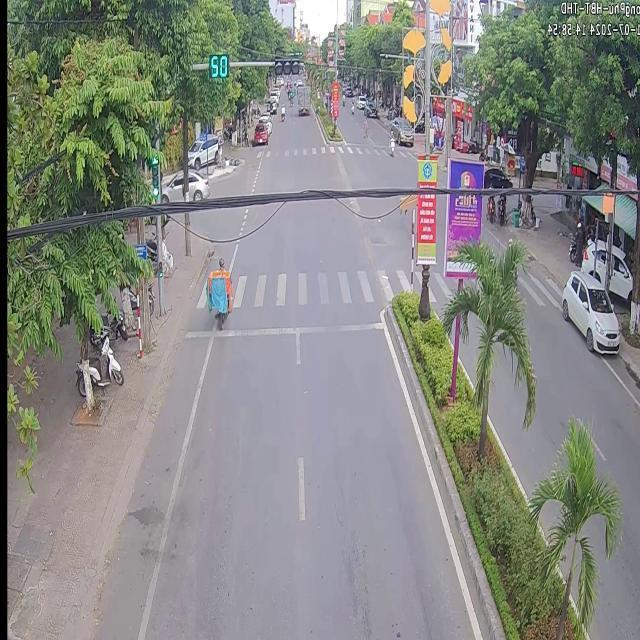car: (559, 269, 619, 351)
green_light: (207, 52, 228, 77), (150, 156, 159, 200)
motobike: (204, 267, 230, 326)
stop_line: (181, 319, 383, 337)
